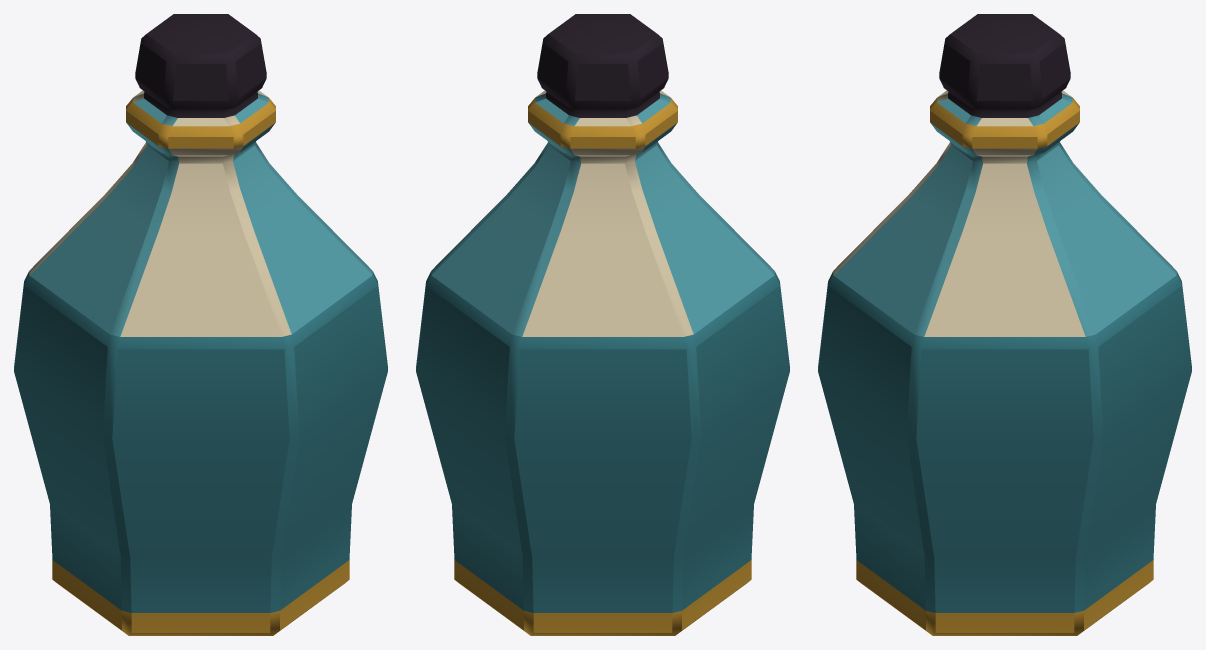
The model's file is Bottle_32.glb.
The picture shows the model from 3 angles, left to right: view 1: azimuth 30°, elevation 25°; view 2: azimuth 150°, elevation 25°; view 3: azimuth 270°, elevation 25°; orthographic projection.
Visible parts, largest first — view 1: Bottle_32; view 2: Bottle_32; view 3: Bottle_32.
Part boxes in pixels (x1,y1,x2,y2): Bottle_32: [14, 14, 387, 635]; Bottle_32: [416, 14, 789, 635]; Bottle_32: [818, 14, 1191, 635].
Size of the model in its own units: 1.28 by 2.39 by 1.45.
